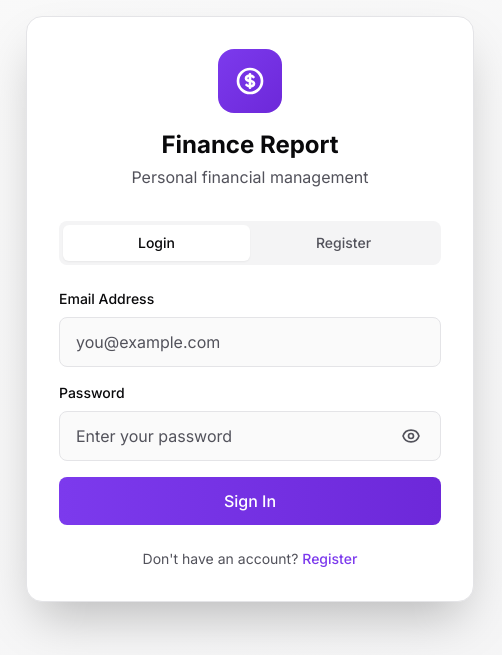
Test: LoginPage › AC16.12.15 shows mode toggle links
Click the button "Register" next to "Don't have an account?": (330, 559) [302,549,357,569]
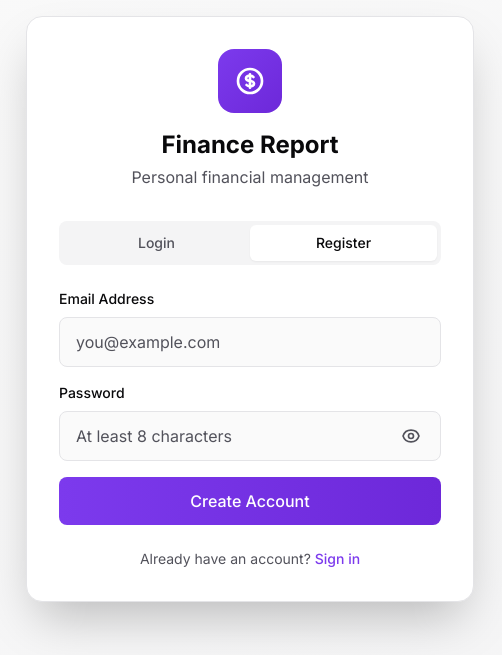
Click the button "Sign in": (338, 559) [315,549,360,569]
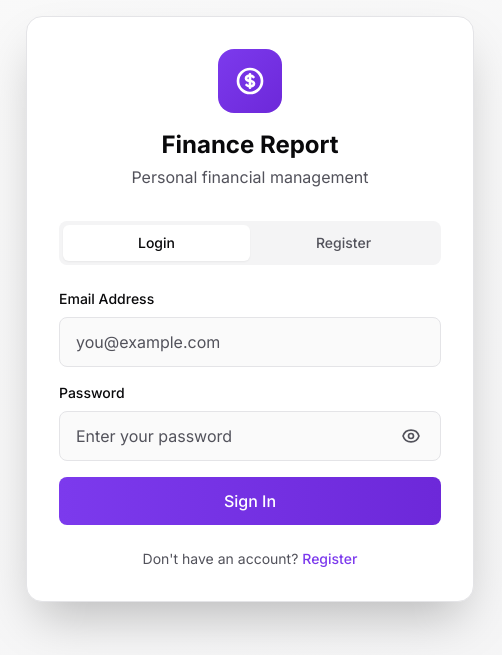
Result: the text "Don't have an account?" is shown at [143,550,298,567]
